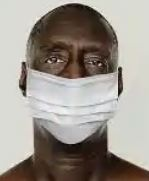with_facemask: (30, 73, 128, 142)
